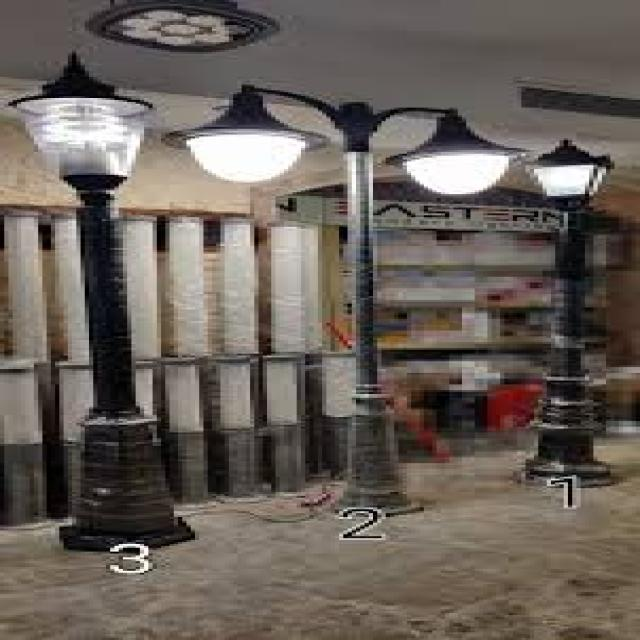Street Light: (166, 81, 522, 517), (8, 56, 191, 546), (517, 140, 615, 484)
